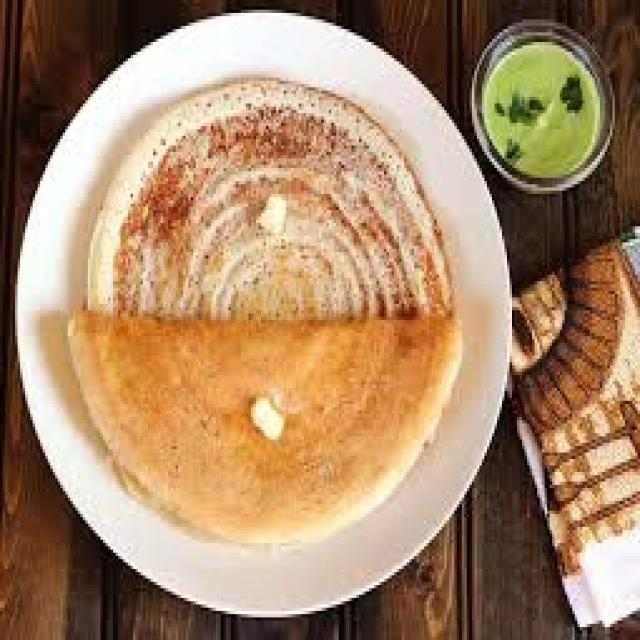DOSA: (64, 74, 465, 546)
